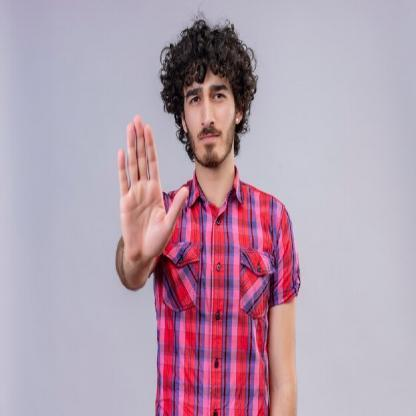stop: (114, 116, 188, 270)
